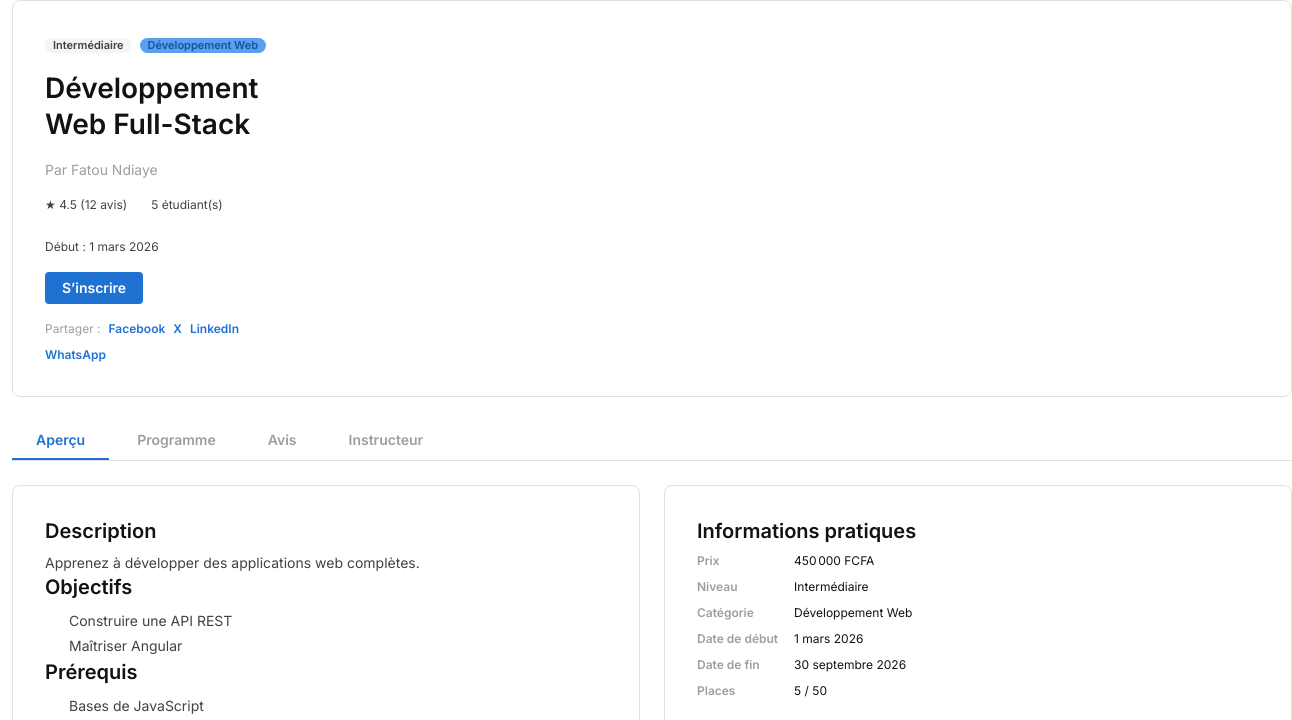
Scenario: FormationDetailComponent › should display the instructor tab with other courses
Click the button with class "detail__tab" showing "Instructeur": (386, 440) [324,421,447,460]
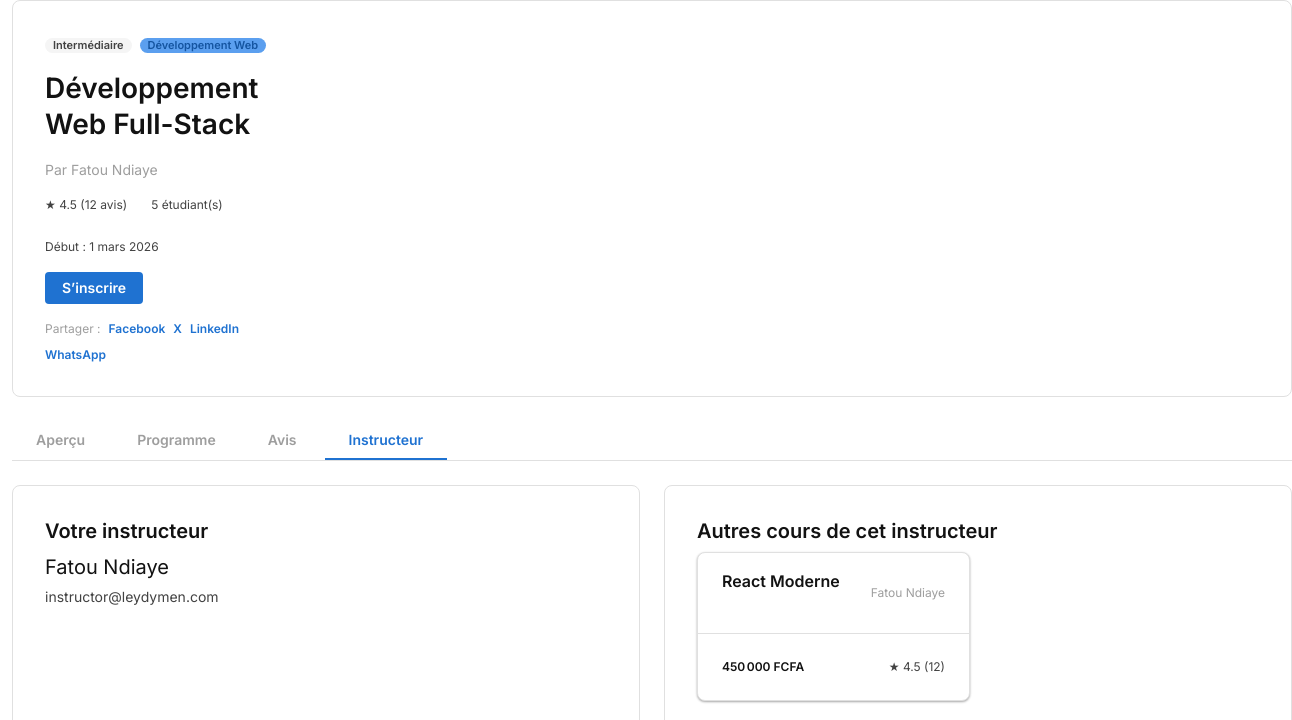
expect the text "Votre instructeur" is shown: met, box [45,519,208,543]
expect the text "React Moderne" is shown: met, box [722,571,840,591]
